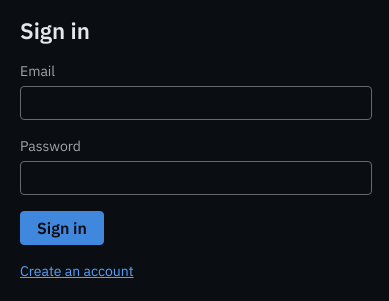
Scenario: AuthPage › keeps next URL-encoded on the alternate-mode link
Click the link "Create an account". click: (77,271)
box: x1=20 y1=262 x2=134 y2=280
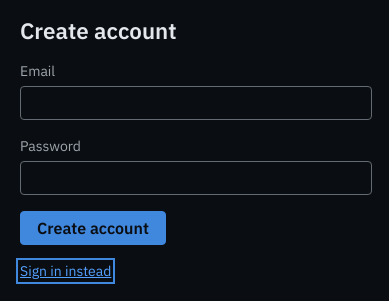
Now the heading "Create account" is shown, box x1=20 y1=16 x2=177 y2=45
